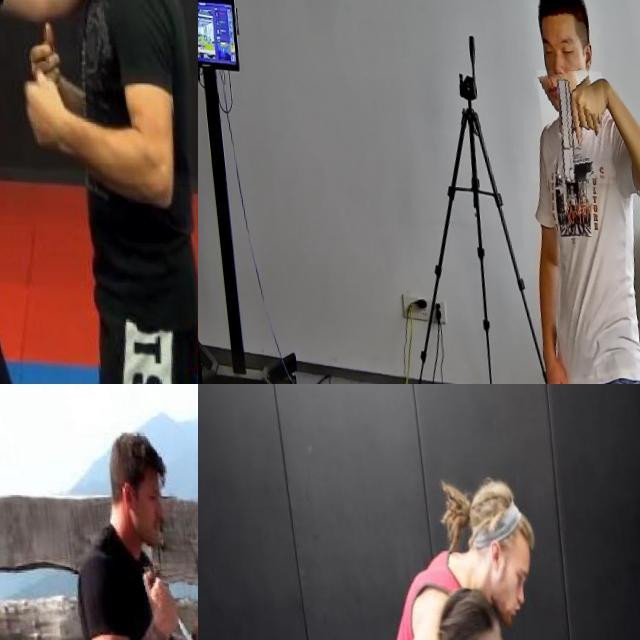-: (138, 561, 198, 640), (0, 206, 53, 276)
gun-knife-thesis - v11 Yolov5 augmented: (532, 68, 606, 182)
